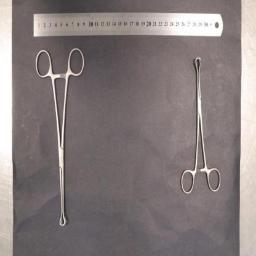Babcock Tissue Forceps: (181, 56, 221, 194)
